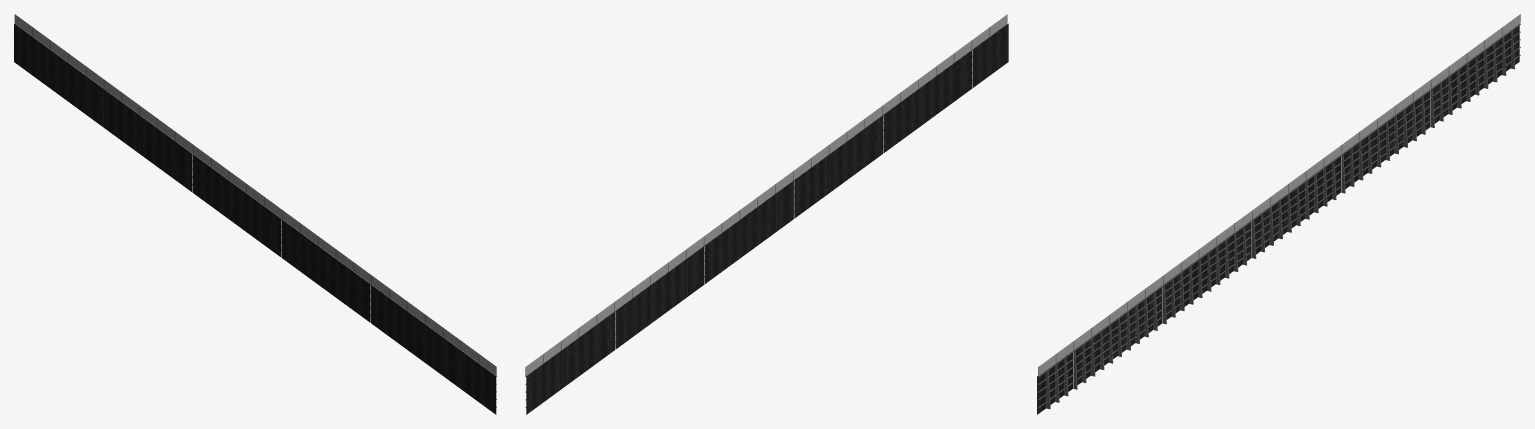
Rendered from vgsselecfence02.obj.
The picture shows the model from 3 angles, left to right: view 1: azimuth 30°, elevation 25°; view 2: azimuth 150°, elevation 25°; view 3: azimuth 330°, elevation 25°; orthographic projection.
Parts seen in each view (by area): view 1: vgsSelecfence02; view 2: vgsSelecfence02; view 3: vgsSelecfence02.
Part boxes in pixels (x1,y1,x2,y2): vgsSelecfence02: (14, 14, 496, 414); vgsSelecfence02: (525, 14, 1008, 414); vgsSelecfence02: (1037, 14, 1520, 414).
Size of the model in its own units: 0.7836 by 8.88 by 162.
3 materials, 3 textured.
